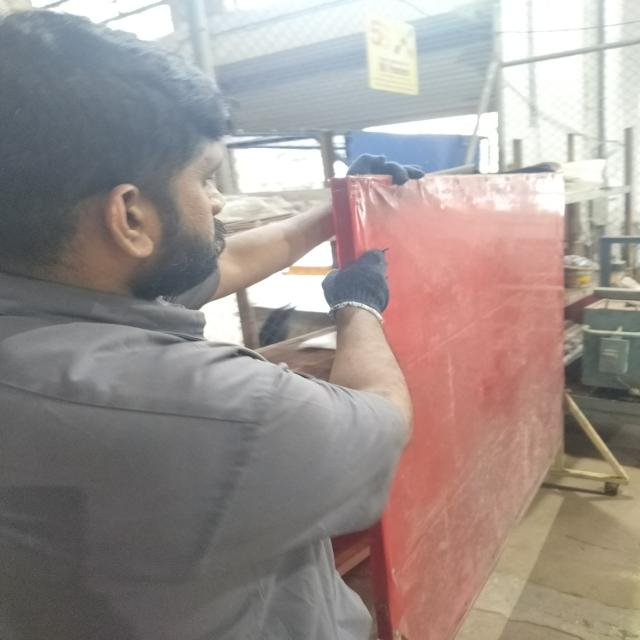Gloves-Detection: (323, 250, 392, 316), (342, 151, 424, 186)
